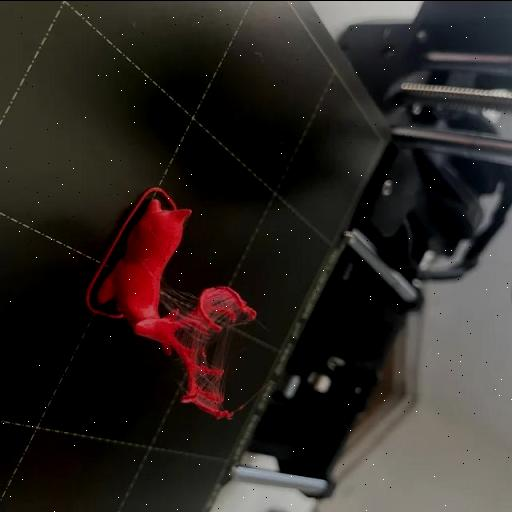stringing: (163, 286, 194, 313), (180, 324, 202, 352), (208, 290, 236, 312), (213, 330, 229, 364), (198, 374, 220, 394)
